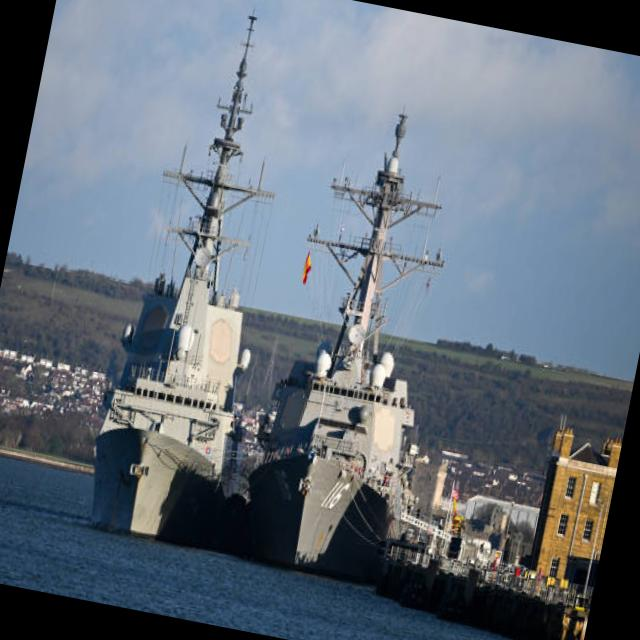Military: (90, 7, 274, 550), (249, 114, 444, 579)
